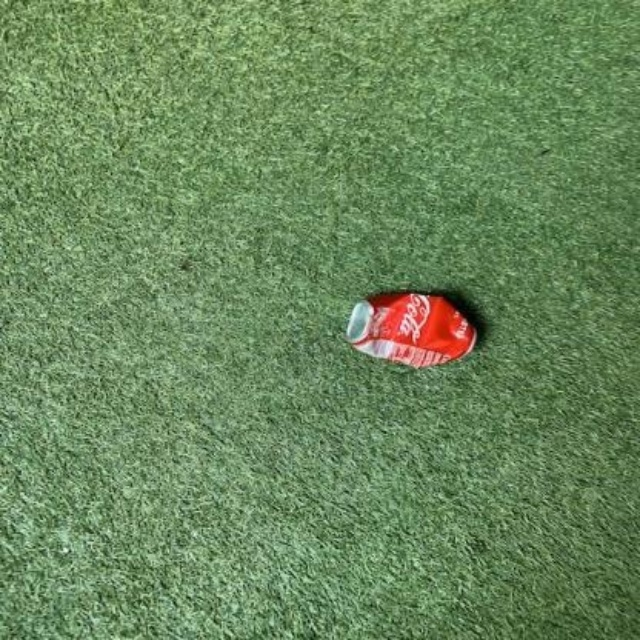trash: (346, 294, 475, 366)
